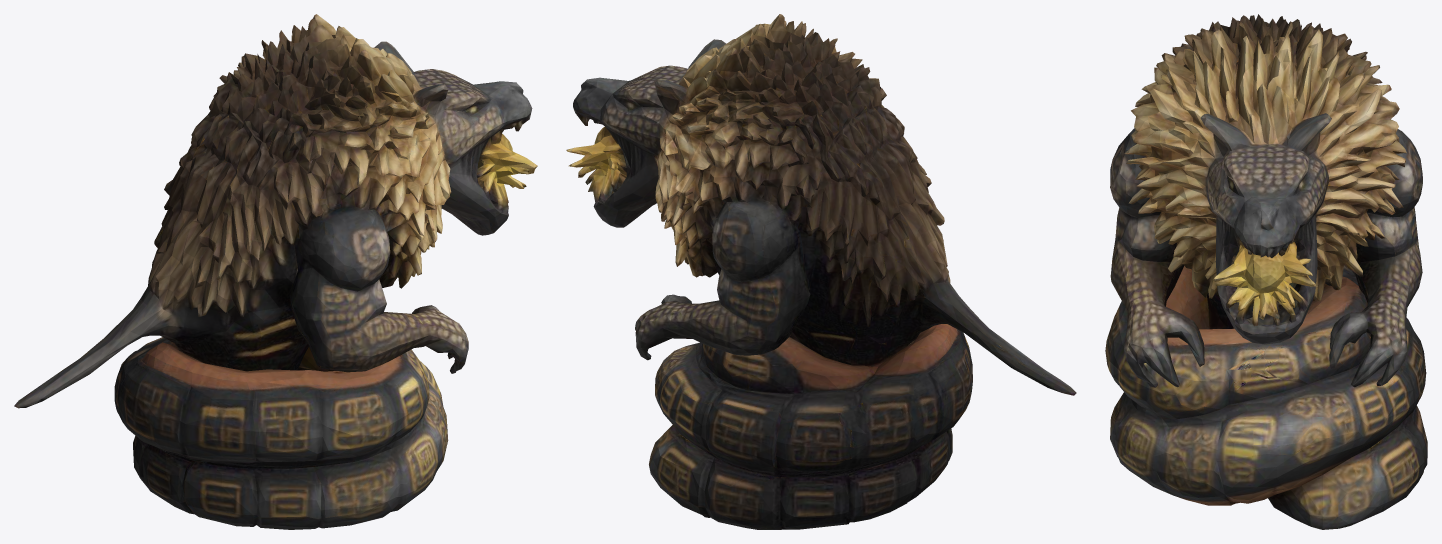
Rendered from sunEater.glb.
The picture shows the model from 3 angles, left to right: view 1: azimuth 30°, elevation 25°; view 2: azimuth 150°, elevation 25°; view 3: azimuth 270°, elevation 25°; orthographic projection. The views are drawn at different scales.
Visible parts, largest first — view 1: world; view 2: world; view 3: world.
Boxes of the visible parts, left/top/right/bottom form: world: left=14, top=14, right=537, bottom=529; world: left=566, top=14, right=1076, bottom=529; world: left=1105, top=14, right=1427, bottom=529.
Size of the model in its own units: 0.997 by 0.842 by 0.5183.
Materials: 1 (1 with a texture image).
